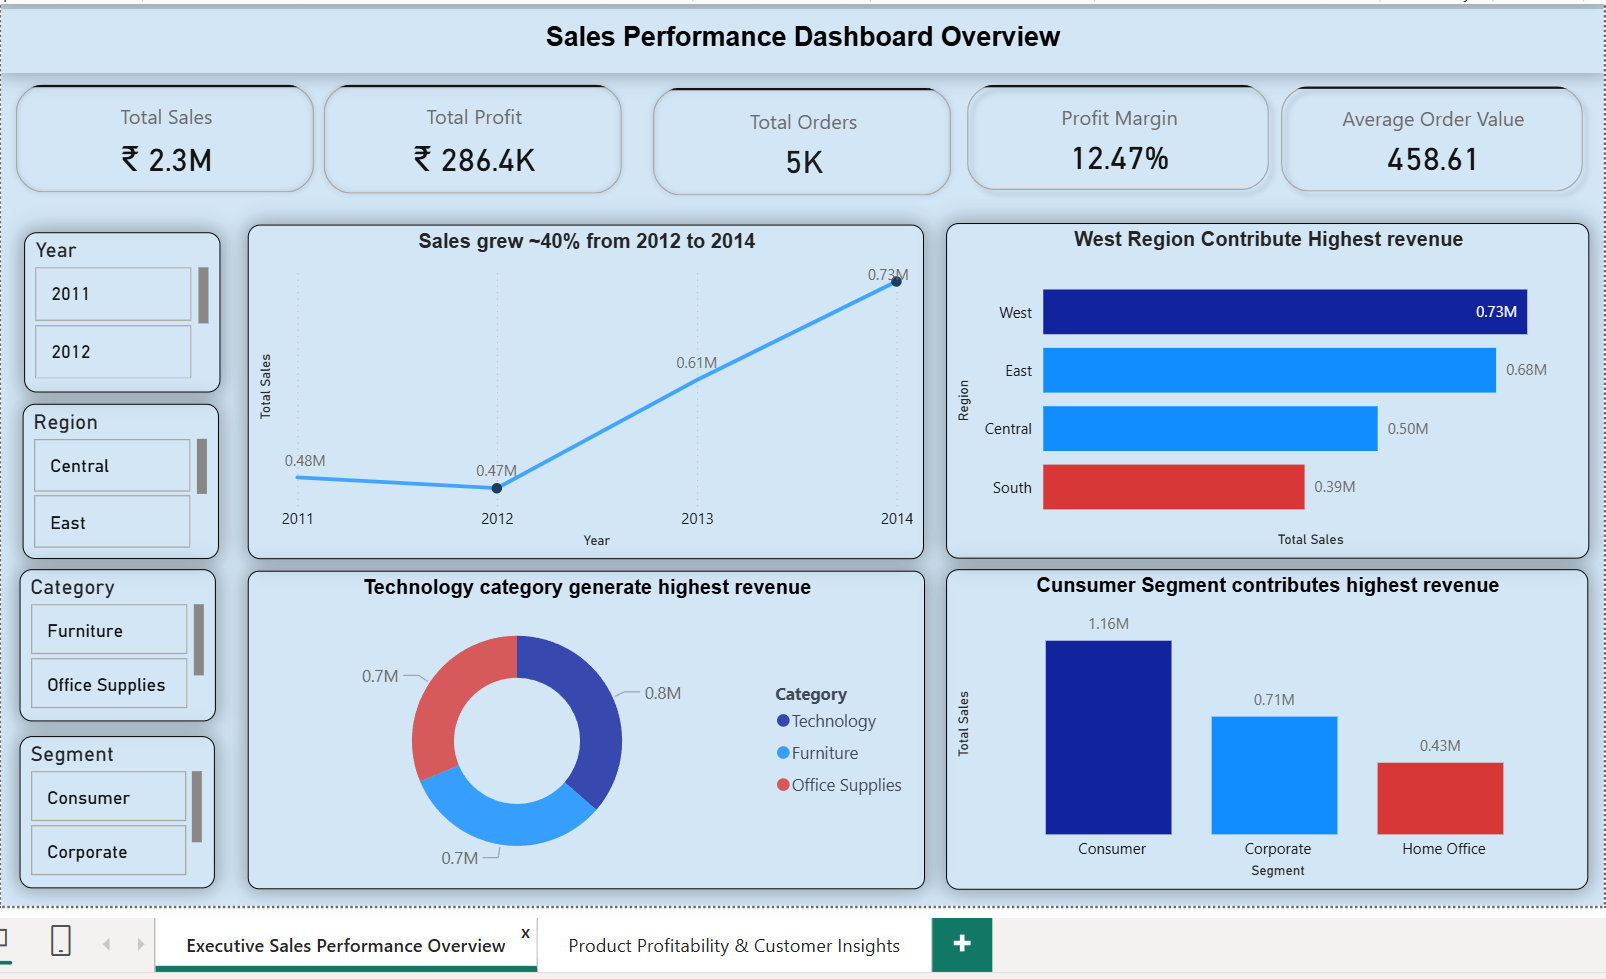

The dashboard page shown, as its layout file describes it:
{"tool":"powerbi","page":{"name":"Executive Sales Performance Overview","canvas":[1280,720],"ordinal":0},"visuals":[{"type":"cardVisual","fields":{"Data":["Superstore_Sales.Total Sales"]},"box":[0,52.6,262.9,110.1],"z":0},{"type":"textbox","box":[0,4,1280,51],"z":1000},{"type":"cardVisual","fields":{"Data":["Superstore_Sales.Total Profit"]},"box":[245.8,52.6,262.9,111.3],"z":2000},{"type":"cardVisual","fields":{"Data":["Superstore_Sales.Total Orders"]},"box":[508.7,55,262.9,110.1],"z":3000},{"type":"cardVisual","fields":{"Data":["Superstore_Sales.Profit Margin"]},"box":[754.5,47.7,275.1,118.6],"z":4000},{"type":"cardVisual","fields":{"Data":["Superstore_Sales.Average Order Value"]},"box":[1005.2,48.9,275.1,118.6],"z":5000},{"type":"lineChart","title":"Sales Increased from 2012 to 2014","fields":{"Y":["Superstore_Sales.Total Sales"],"Category":["Superstore_Sales.Order_Date.Variation.Date Hierarchy.Year"]},"box":[197.2,175.6,540.2,267.4],"z":6000},{"type":"barChart","title":"West Region Drives Highest Sales","fields":{"Y":["Superstore_Sales.Total Sales"],"Category":["Superstore_Sales.Region"]},"box":[754,174.9,513.9,267.8],"z":7000},{"type":"donutChart","title":"Technology Contributes Highest Share in Sales","fields":{"Category":["Superstore_Sales.Category"],"Y":["Superstore_Sales.Total Sales"]},"box":[196.6,452.4,540.5,254.6],"z":8000},{"type":"columnChart","title":"Customer Segment Contibutes Most Revenue","fields":{"Category":["Superstore_Sales.Segment"],"Y":["Superstore_Sales.Total Sales"]},"box":[754,451.2,512.7,255.8],"z":9000},{"type":"advancedSlicerVisual","fields":{"Values":["Superstore_Sales.Order_Date.Variation.Date Hierarchy.Year"]},"box":[18.1,182.2,156.8,127.9],"z":10000},{"type":"advancedSlicerVisual","fields":{"Values":["Superstore_Sales.Region"]},"box":[17.6,318.7,156.7,124.2],"z":11000},{"type":"advancedSlicerVisual","fields":{"Values":["Superstore_Sales.Category"]},"box":[14.5,451.2,156.8,121.9],"z":12000},{"type":"advancedSlicerVisual","fields":{"Values":["Superstore_Sales.Segment"]},"box":[14.5,585.1,155.6,121.9],"z":13000}]}

Visuals, with their boxes in screenshot pixels (x1, y1, x2, y2):
cardVisual - Superstore_Sales.Total Sales: box(8, 82, 334, 218)
textbox: box(8, 22, 1592, 85)
cardVisual - Superstore_Sales.Total Profit: box(312, 82, 638, 220)
cardVisual - Superstore_Sales.Total Orders: box(638, 85, 963, 221)
cardVisual - Superstore_Sales.Profit Margin: box(942, 76, 1282, 222)
cardVisual - Superstore_Sales.Average Order Value: box(1252, 77, 1593, 224)
"Sales Increased from 2012 to 2014" lineChart: box(252, 234, 921, 565)
"West Region Drives Highest Sales" barChart: box(941, 233, 1577, 565)
"Technology Contributes Highest Share in Sales" donutChart: box(252, 577, 920, 892)
"Customer Segment Contibutes Most Revenue" columnChart: box(941, 575, 1576, 892)
advancedSlicerVisual - Superstore_Sales.Order_Date.Variation.Date Hierarchy.Year: box(31, 242, 225, 400)
advancedSlicerVisual - Superstore_Sales.Region: box(30, 411, 224, 565)
advancedSlicerVisual - Superstore_Sales.Category: box(26, 575, 220, 726)
advancedSlicerVisual - Superstore_Sales.Segment: box(26, 741, 219, 892)
